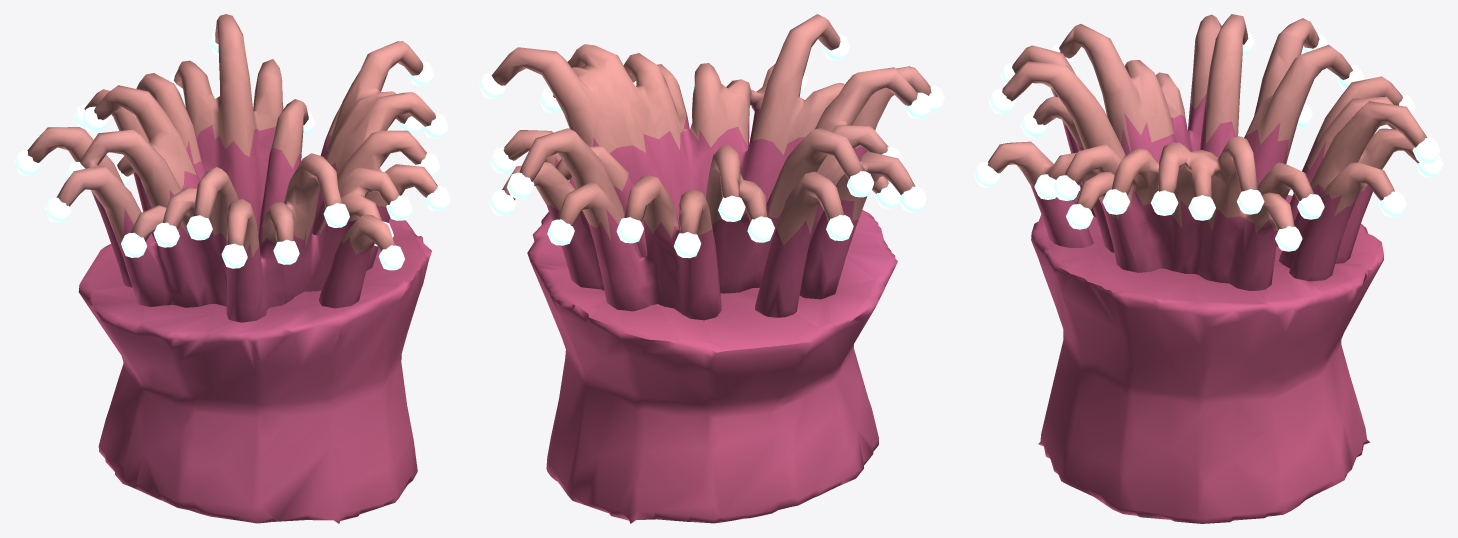
File: shore_anemone.glb
3 renders of one model, left to right at view 1: azimuth 30°, elevation 25°; view 2: azimuth 150°, elevation 25°; view 3: azimuth 270°, elevation 25°, orthographic. The views are drawn at different scales.
Parts seen in each view (by area): view 1: shore_anemone; view 2: shore_anemone; view 3: shore_anemone.
Boxes of the visible parts, x1=… form: shore_anemone: x1=14, y1=14, x2=450, y2=523; shore_anemone: x1=479, y1=14, x2=944, y2=523; shore_anemone: x1=973, y1=14, x2=1443, y2=523.
Bounding box in the file's own units: 5.48 × 4.93 × 5.4.
